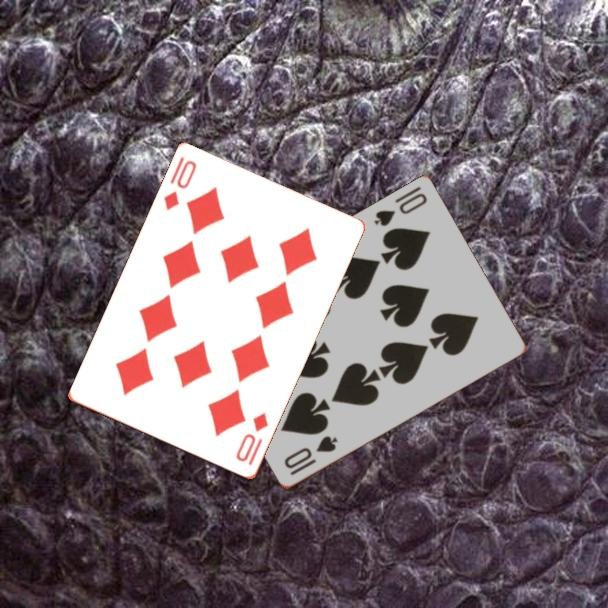d10: (160, 153, 200, 214), (232, 409, 272, 469)
s10: (370, 183, 430, 230), (280, 433, 341, 479)
